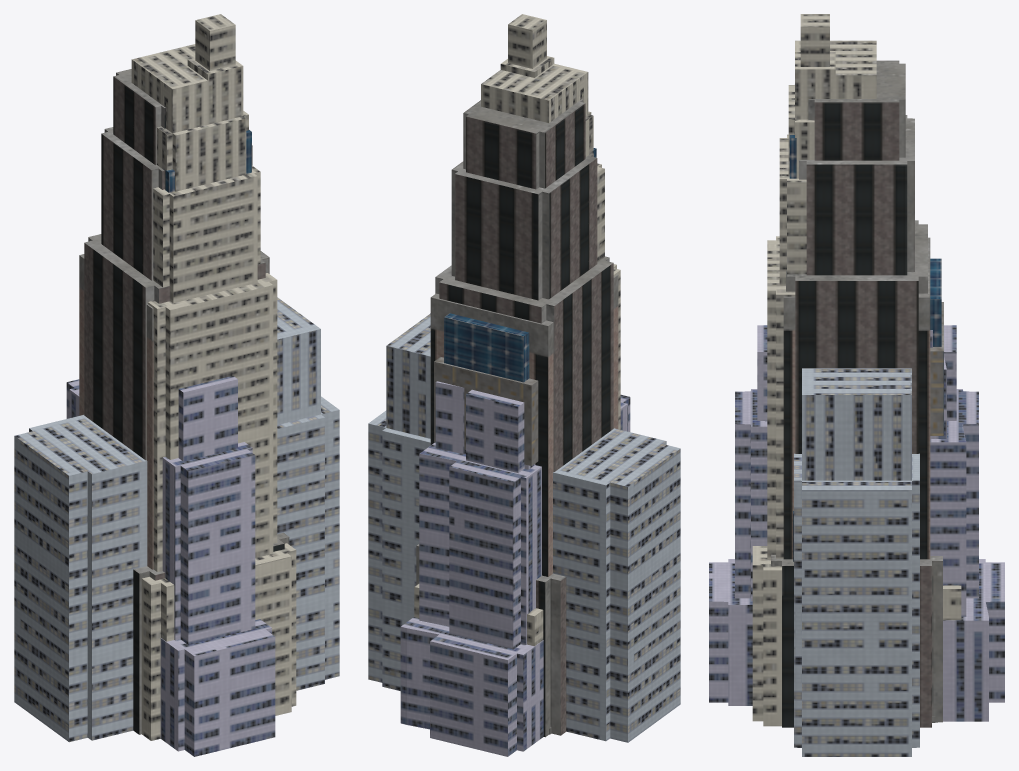
Rendered from urban.glb.
The picture shows the model from 3 angles, left to right: view 1: azimuth 30°, elevation 25°; view 2: azimuth 150°, elevation 25°; view 3: azimuth 270°, elevation 25°; orthographic projection. The views are drawn at different scales.
Visible parts, largest first — view 1: Cube_005, Cube_003, Cube_006, Cube_001, Cube; view 2: Cube_005, Cube_006, Cube_001, Cube_003, Cube_002, Cube; view 3: Cube_005, Cube_001, Cube_006, Cube_003, Cube, Cube_002.
Boxes of the visible parts, box(x1,y1,x2,y2) form: Cube_005: box(14, 297, 339, 742); Cube_003: box(131, 14, 296, 740); Cube_006: box(66, 376, 275, 756); Cube_001: box(84, 69, 289, 734); Cube: box(79, 254, 153, 569); Cube_005: box(368, 313, 680, 742); Cube_006: box(400, 381, 630, 756); Cube_001: box(416, 99, 613, 737); Cube_003: box(414, 14, 620, 646); Cube_002: box(434, 148, 596, 465); Cube: box(430, 274, 618, 734); Cube_005: box(794, 368, 919, 756); Cube_001: box(771, 60, 942, 727); Cube_006: box(709, 325, 1004, 721); Cube_003: box(752, 14, 961, 726); Cube: box(783, 237, 935, 722); Cube_002: box(789, 135, 943, 561).
Bounding box in the file's own units: 3.6 × 8.62 × 3.4.
7 materials, 7 textured.
